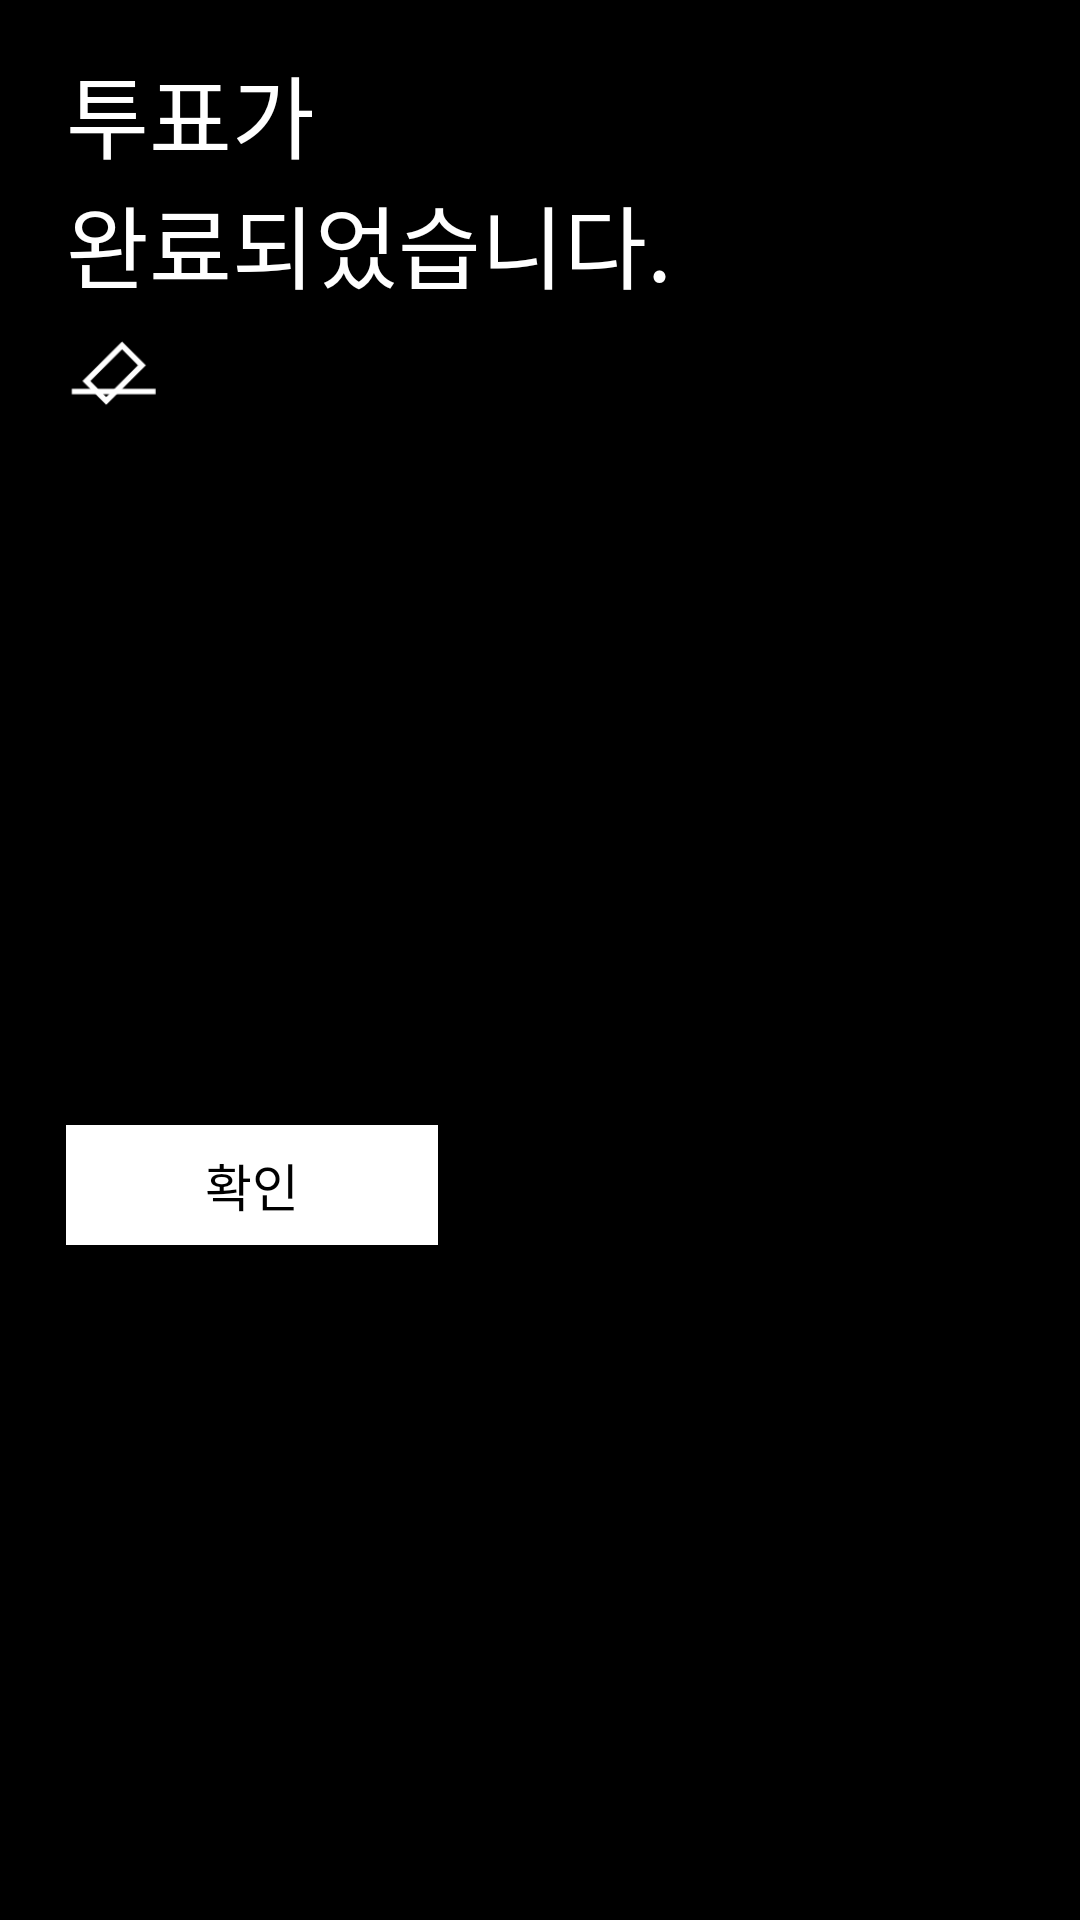

Icon click points for this 1080 x 1920 phone screenshot, format point (x, y):
vote: point (113, 373)
